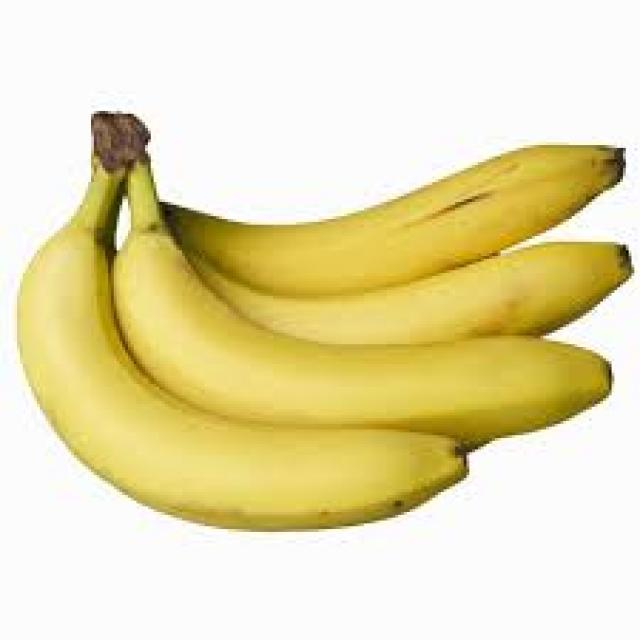organic waste: (17, 140, 464, 524), (111, 151, 609, 458), (145, 139, 620, 276), (160, 239, 634, 341)
